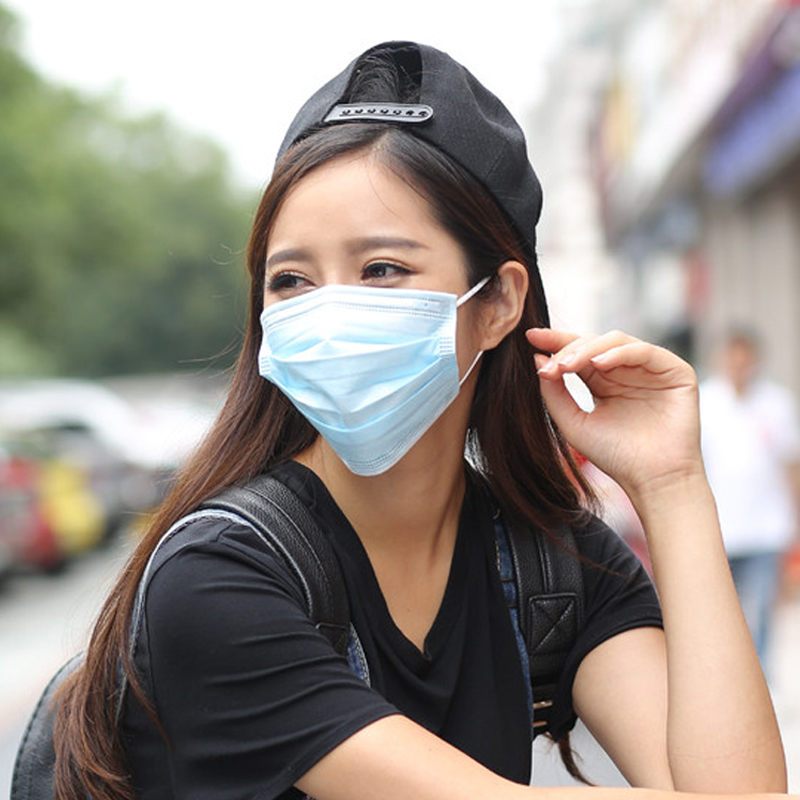face_mask: (259, 157, 474, 445)
